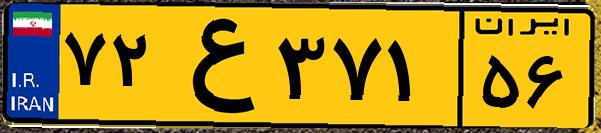1: (385, 28, 445, 110)
2: (110, 28, 158, 98)
3: (270, 28, 330, 110)
5: (475, 38, 525, 113)
6: (525, 38, 570, 115)
7: (330, 28, 385, 110), (57, 26, 110, 100)
ع: (158, 12, 270, 120)
